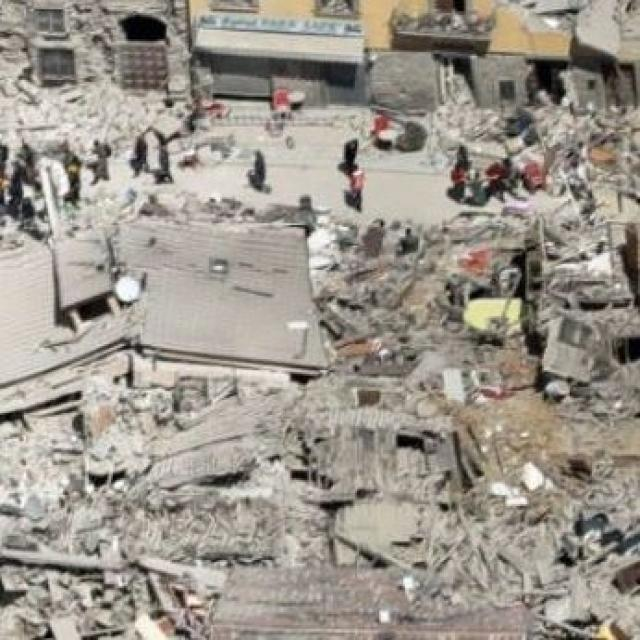collapsed_building: (0, 221, 462, 591)
